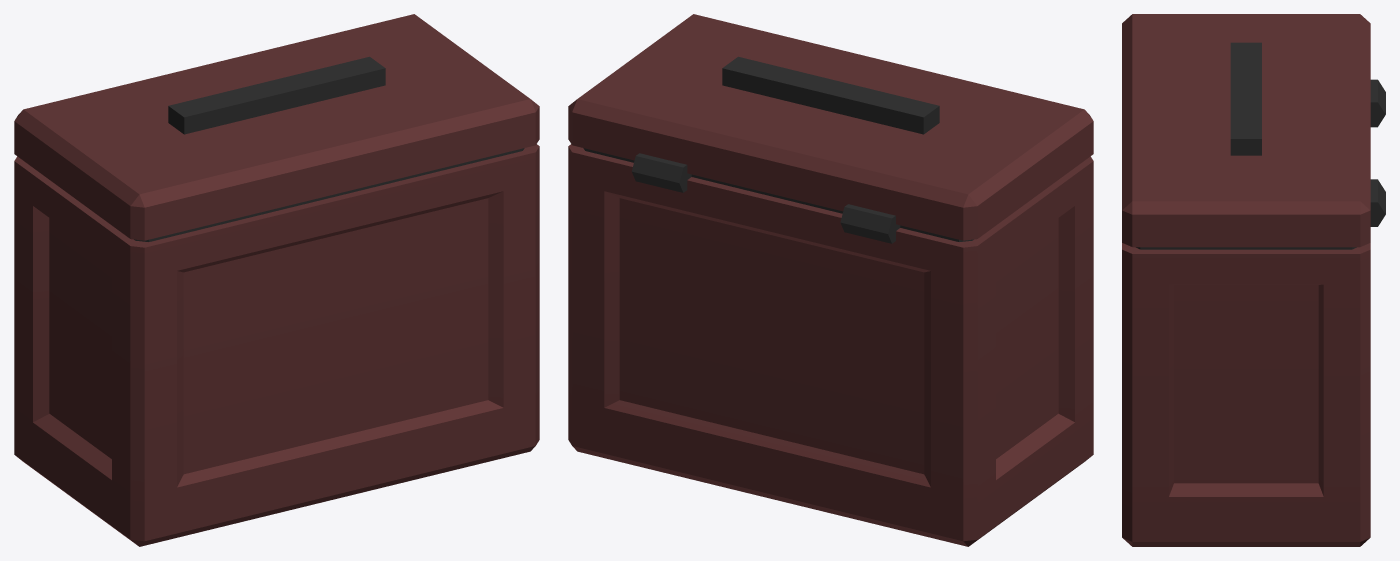
The model's file is AmoBox_04.fbx.
The picture shows the model from 3 angles, left to right: view 1: azimuth 30°, elevation 25°; view 2: azimuth 150°, elevation 25°; view 3: azimuth 270°, elevation 25°; orthographic projection.
Visible parts, largest first — view 1: AmoBox_04; view 2: AmoBox_04; view 3: AmoBox_04.
Boxes of the visible parts, bbox=[...] form: AmoBox_04: bbox=[14, 14, 539, 546]; AmoBox_04: bbox=[568, 14, 1093, 546]; AmoBox_04: bbox=[1122, 14, 1385, 546].
Size of the model in its own units: 0.3506 by 0.3027 by 0.1995.
